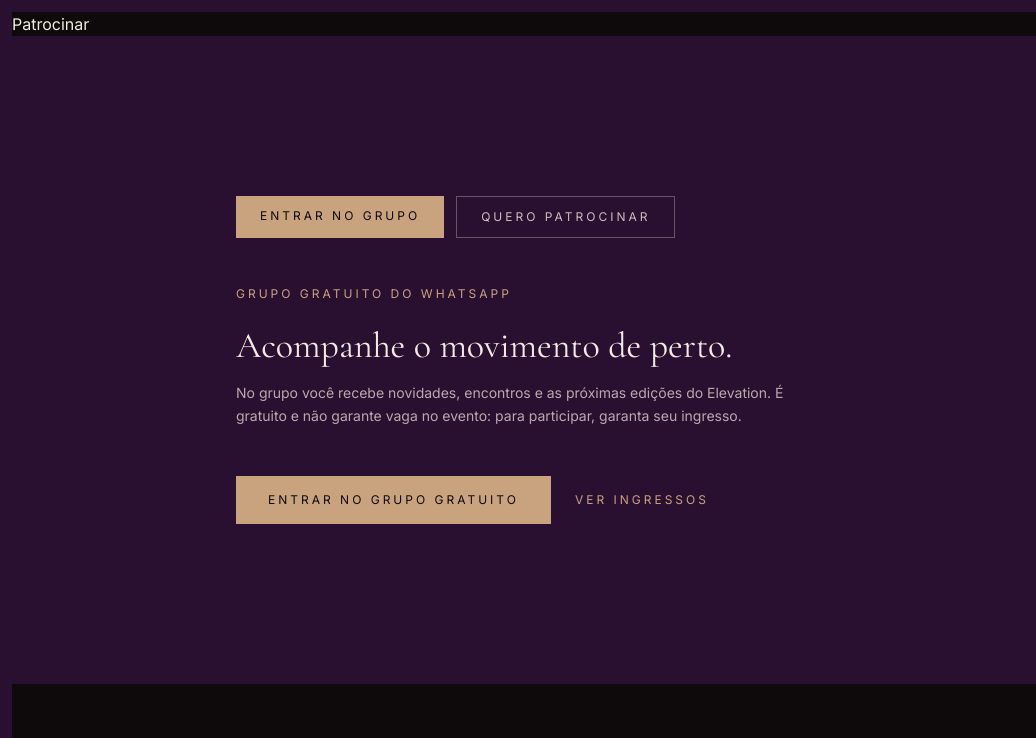
Test: Interesse › abre o formulário ao clicar em Patrocinar na mesma página
The width and height of the screenshot is (1036, 738).
What coordinates should you click on to do the following:
click the link "Patrocinar"
I would click on:
 (51, 24)
Its box is [12, 14, 89, 34].
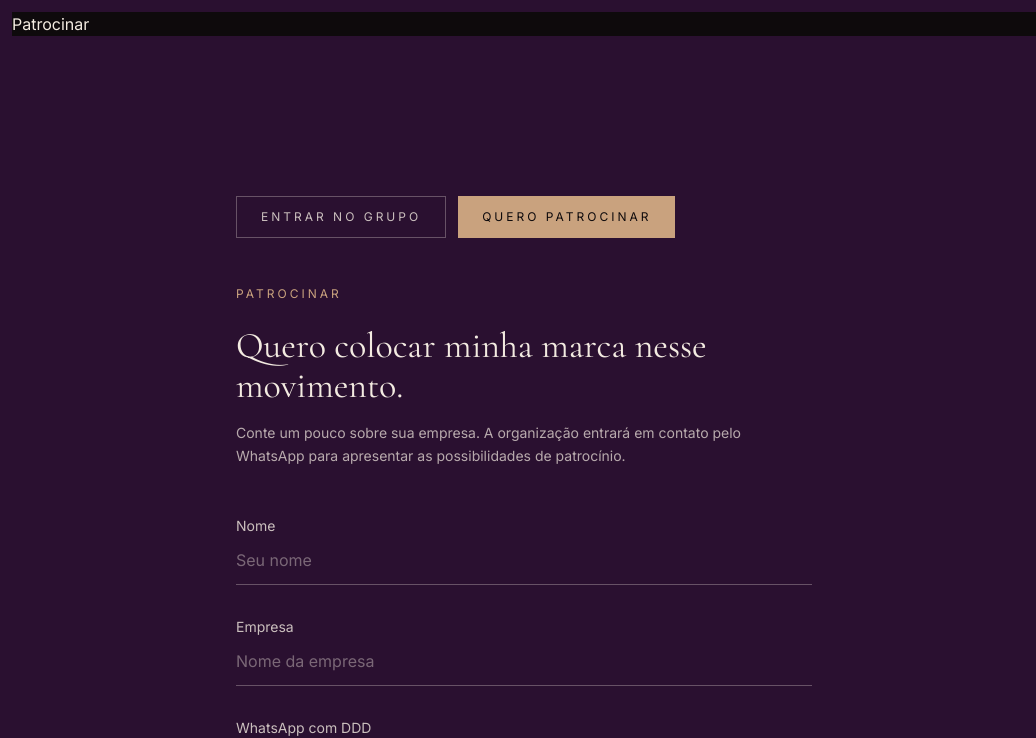
Check: the field labelled "Empresa" is shown, box [236, 636, 812, 686]
